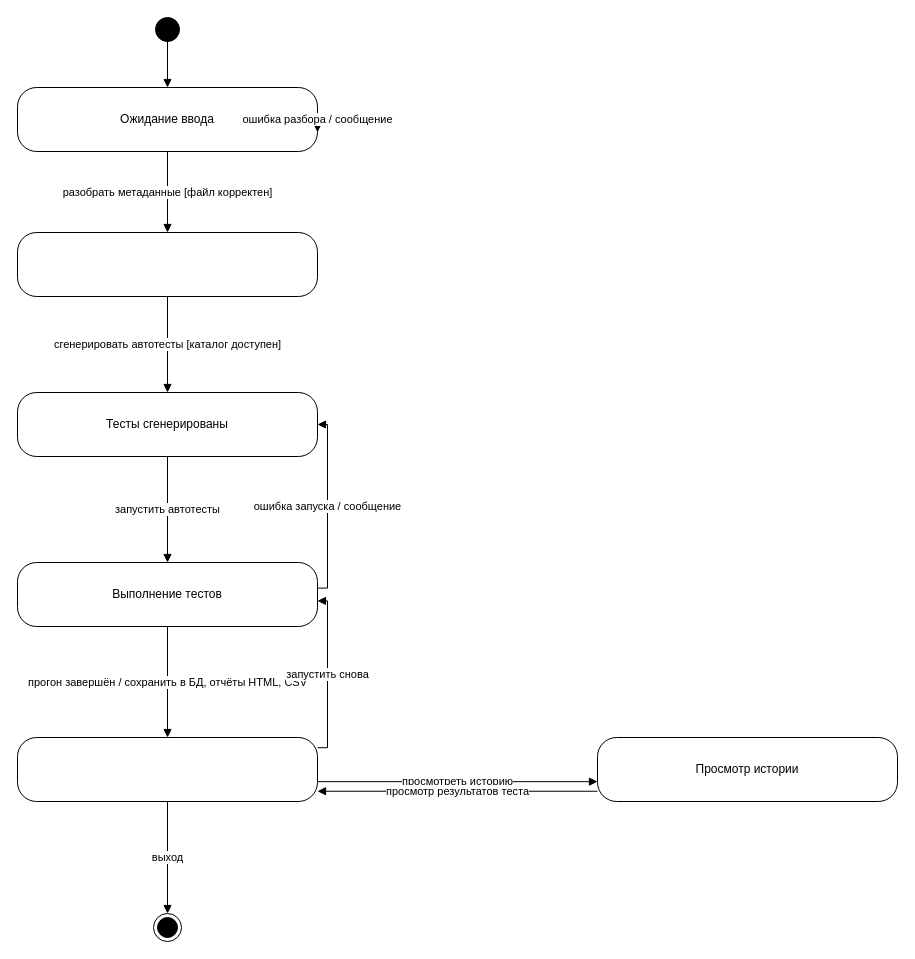
This 915x959 diagram has some shape labels left out. Each missing label, with the centre of its shape:
Метаданные разобраны: [167,264]
Результаты получены: [167,769]
